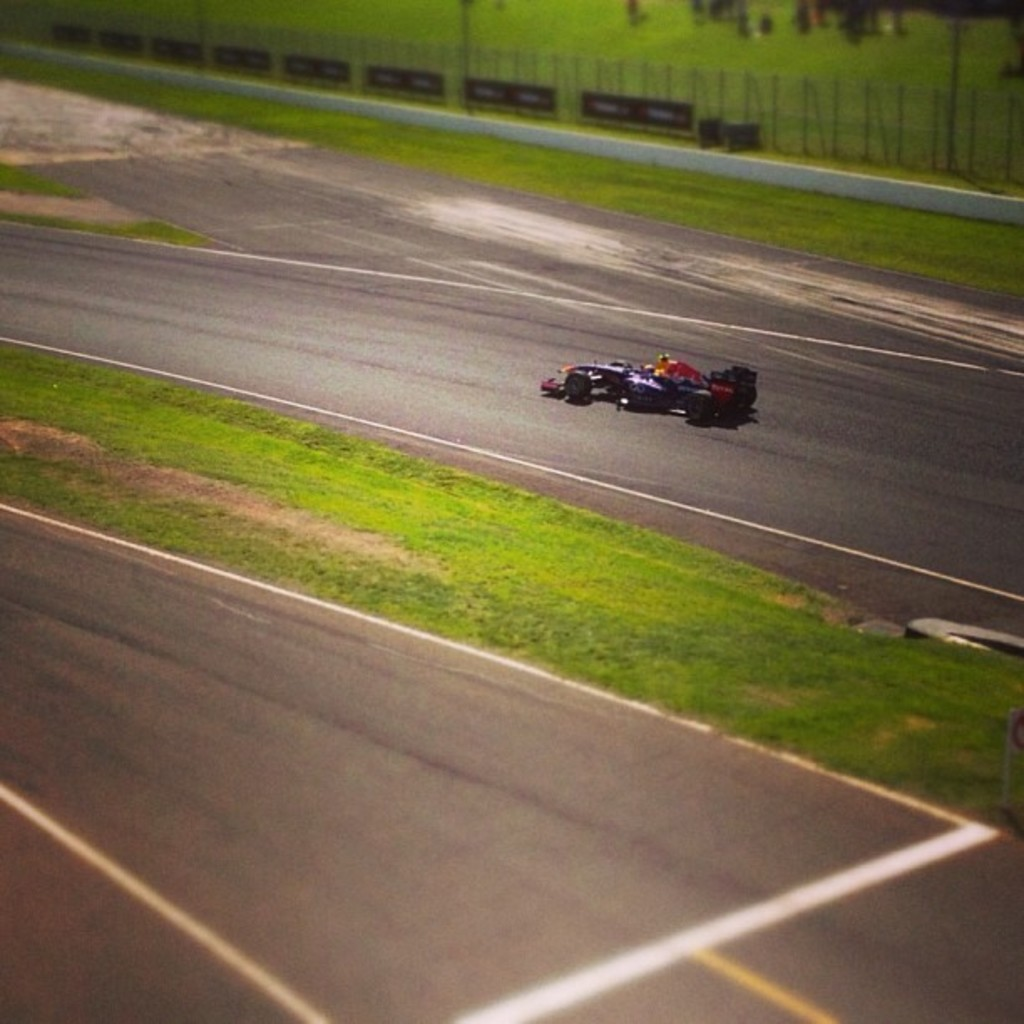Car: (538, 354, 762, 428)
